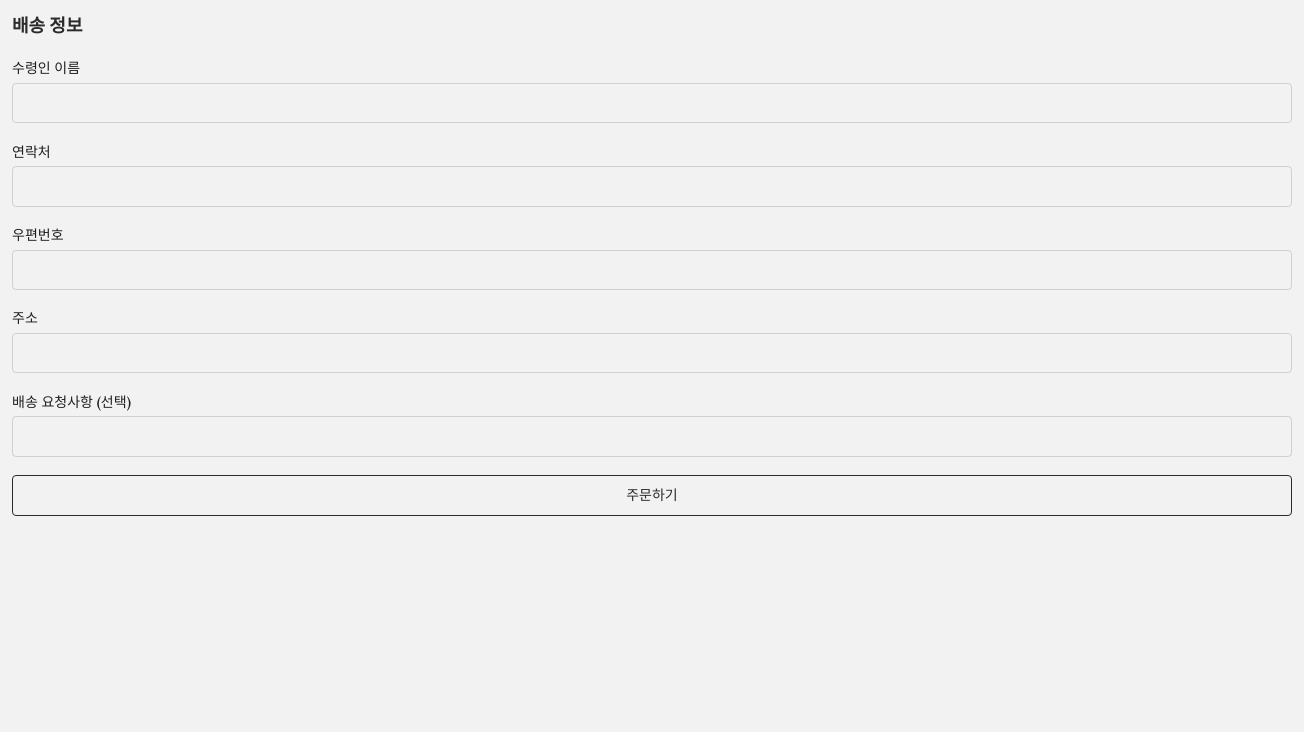
SPEC-ORDER-001 — how a refusal reaches the shopper (design.md §8) › re-enables the button after a refusal so the shopper can retry
Step 1. Type "홍길동" into the field labelled "수령인 이름" → (652, 103), box [12, 83, 1292, 123]
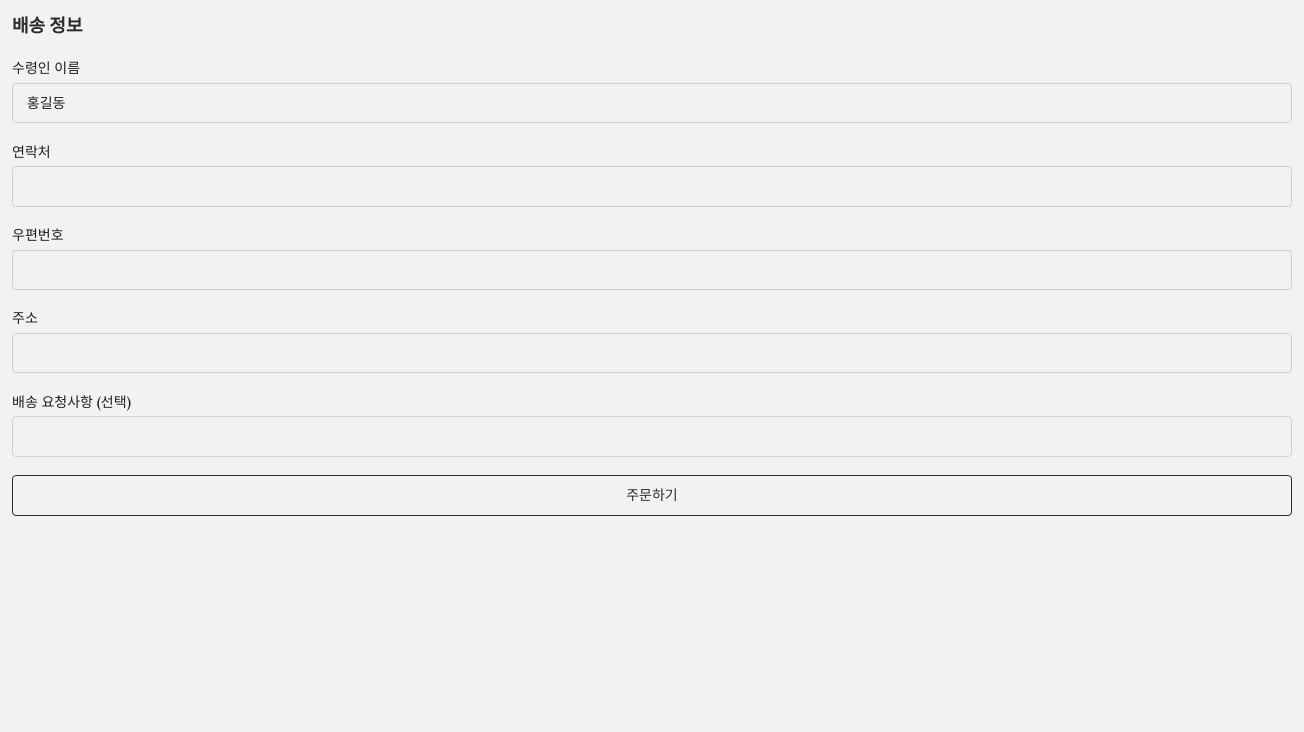
Step 2. Type "010-1234-5678" into the field labelled "연락처" → (652, 186), box [12, 166, 1292, 207]
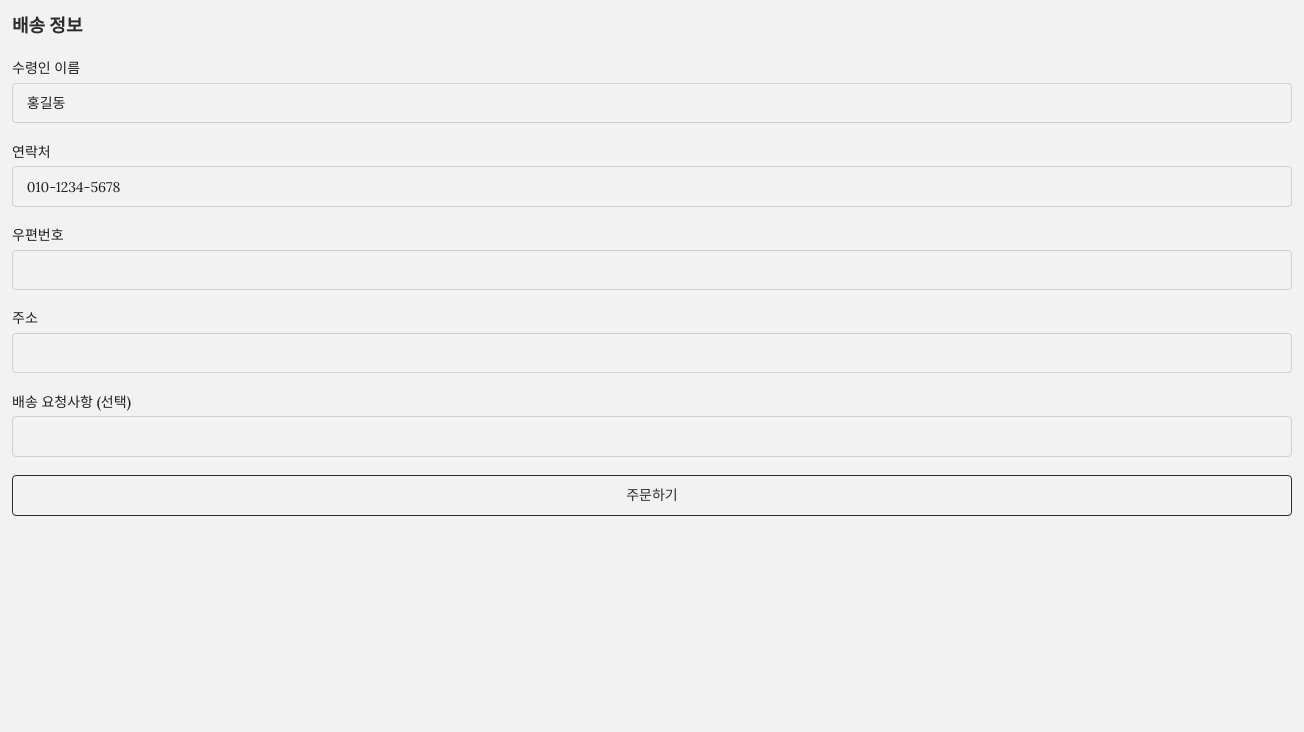
Step 3. Type "06236" into the field labelled "우편번호" → (652, 270), box [12, 250, 1292, 290]
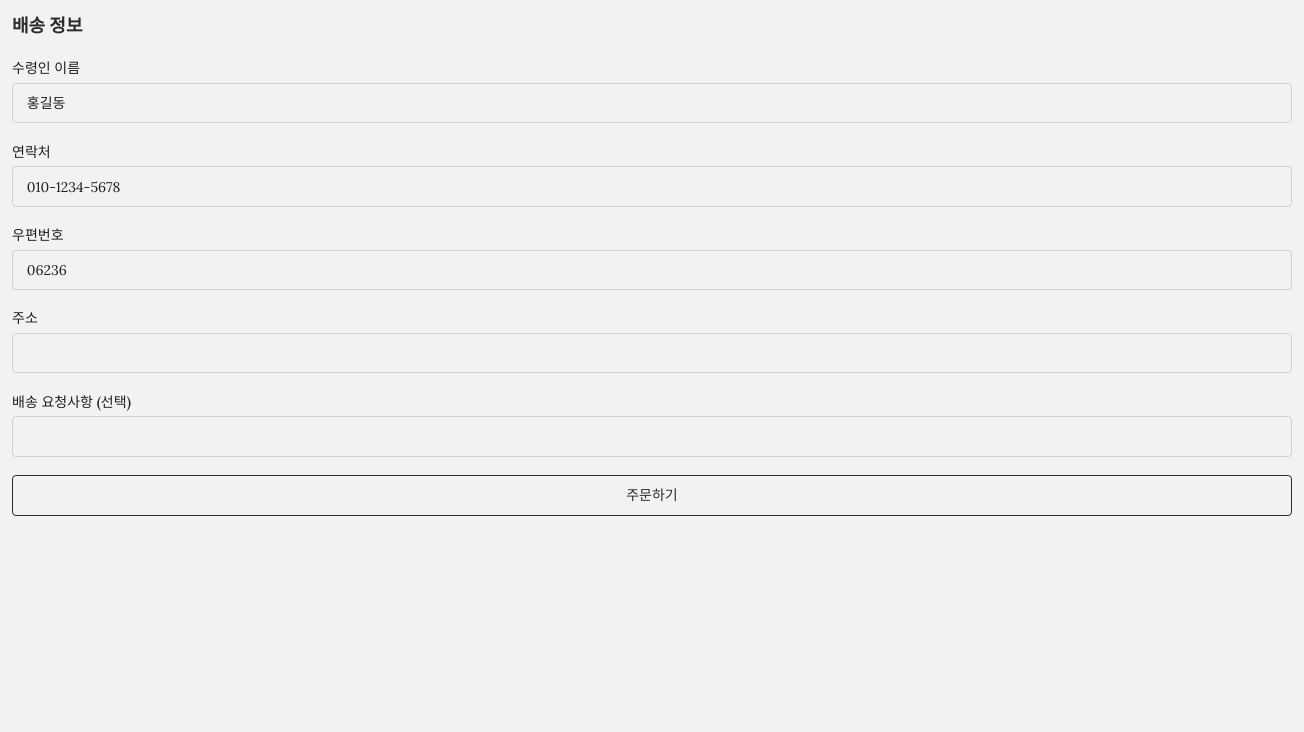
Step 4. Type "서울시 강남구 테헤란로 1" into the field labelled "주소" → (652, 353), box [12, 333, 1292, 374]
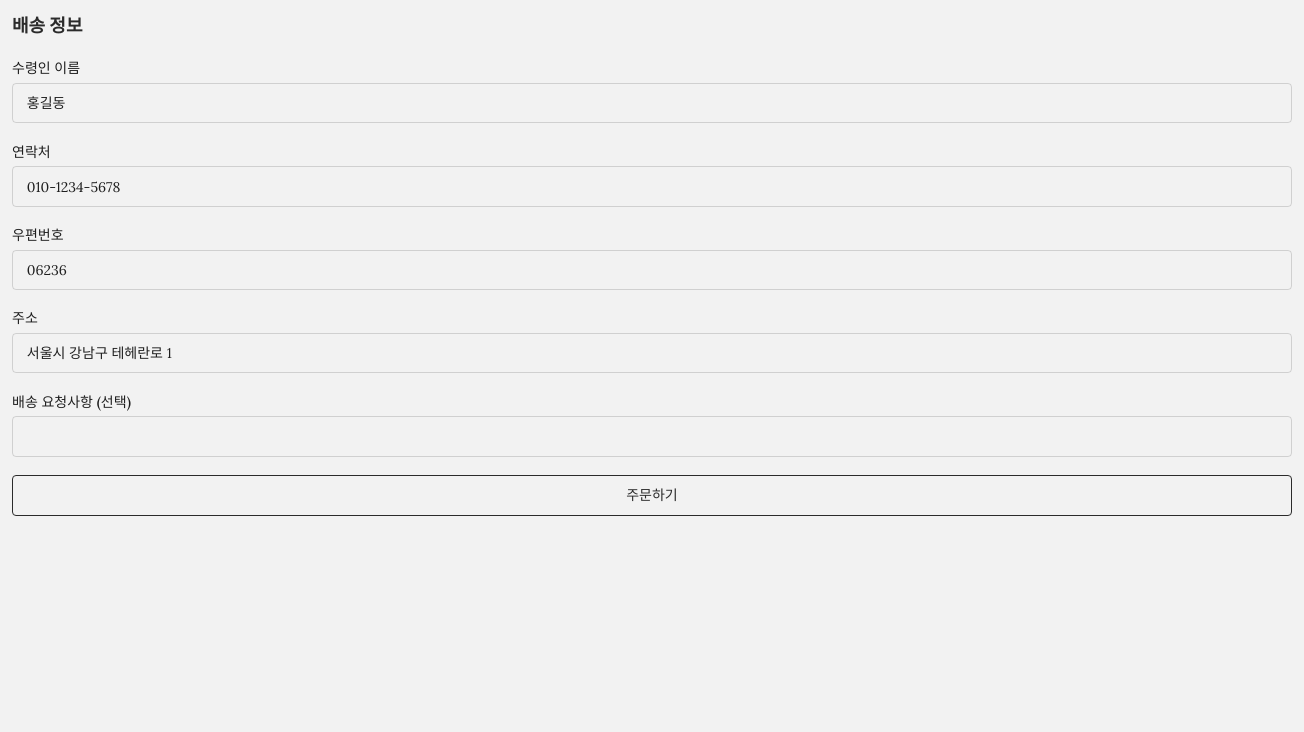
Step 5. Click the button "주문하기" → (652, 495), box [12, 475, 1292, 516]
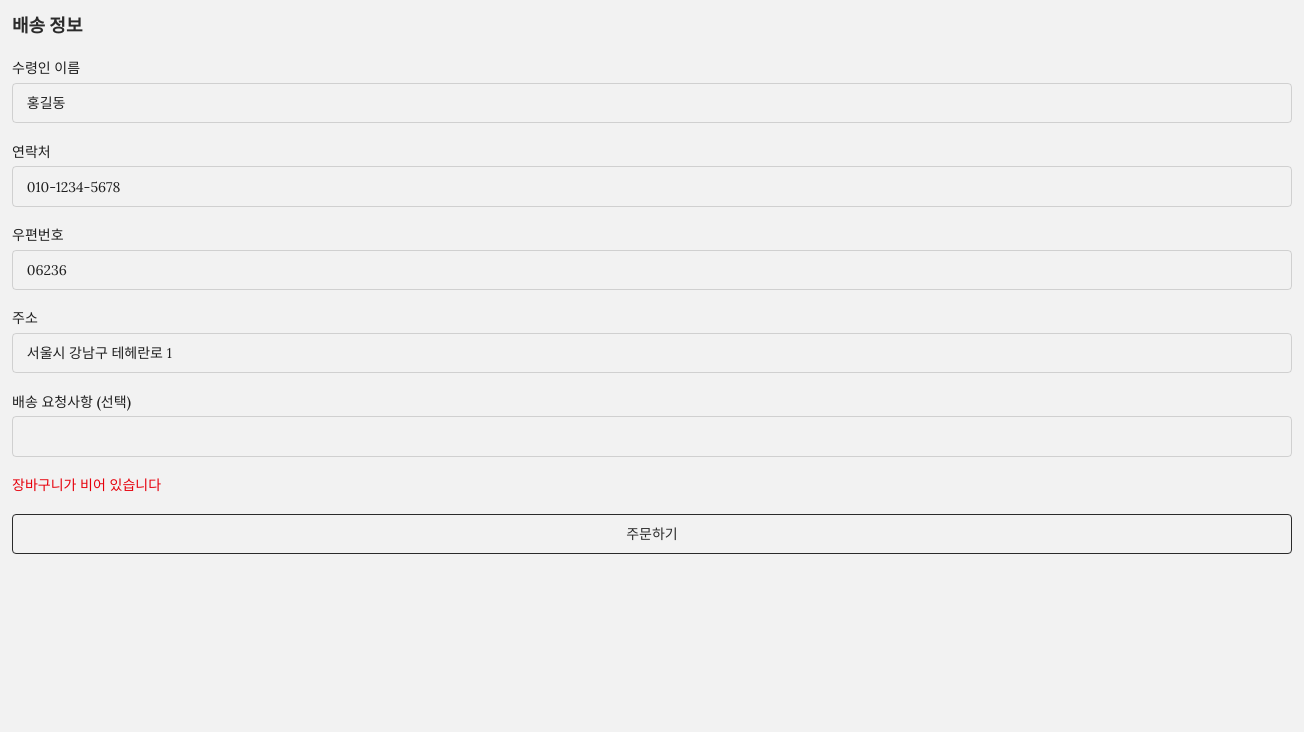
Expected: the button "주문하기" is enabled, [12, 514, 1292, 554]
Expected: the message "장바구니가 비어 있습니다" is shown, [12, 476, 161, 494]
